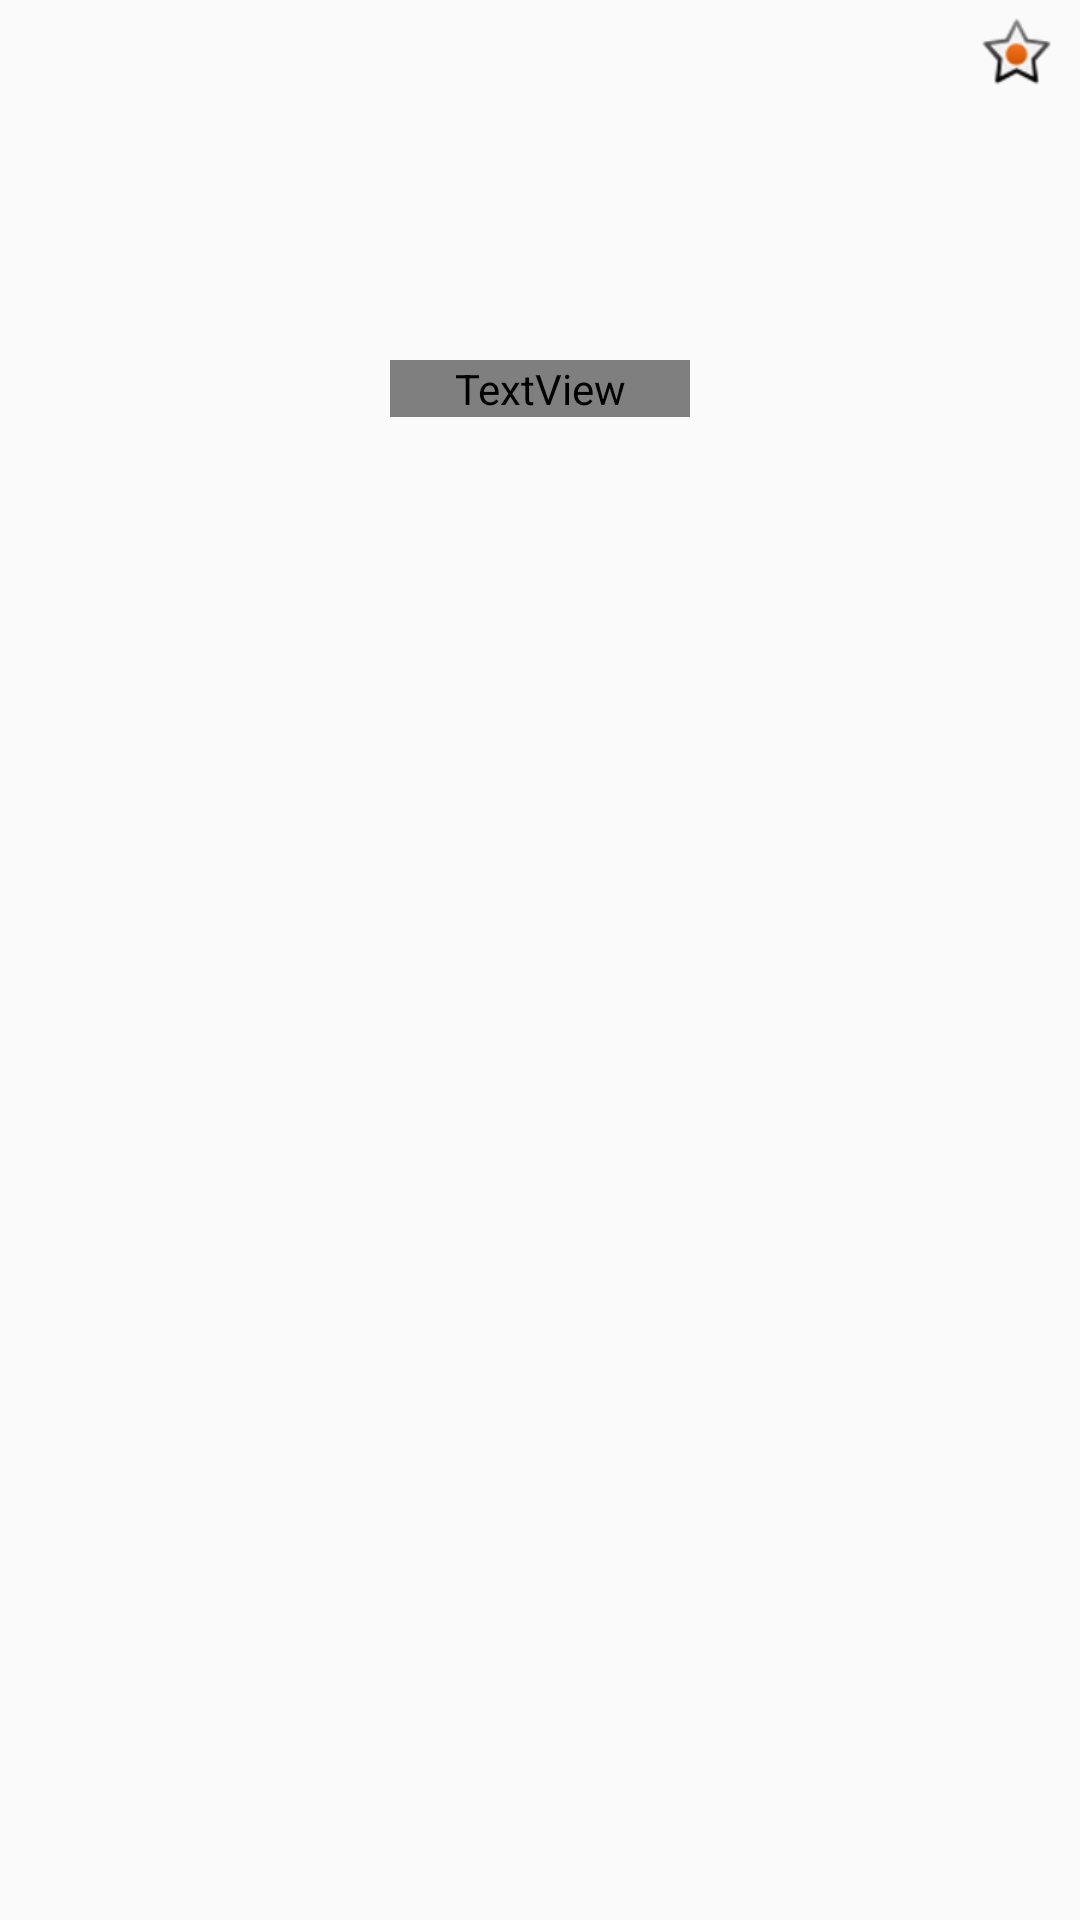

Icons on this 1080 × 1920 Android screen, each with the point to tap as point (x, y):
star on: point (1016, 51)
